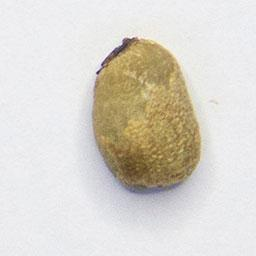defect: (90, 35, 205, 193)
